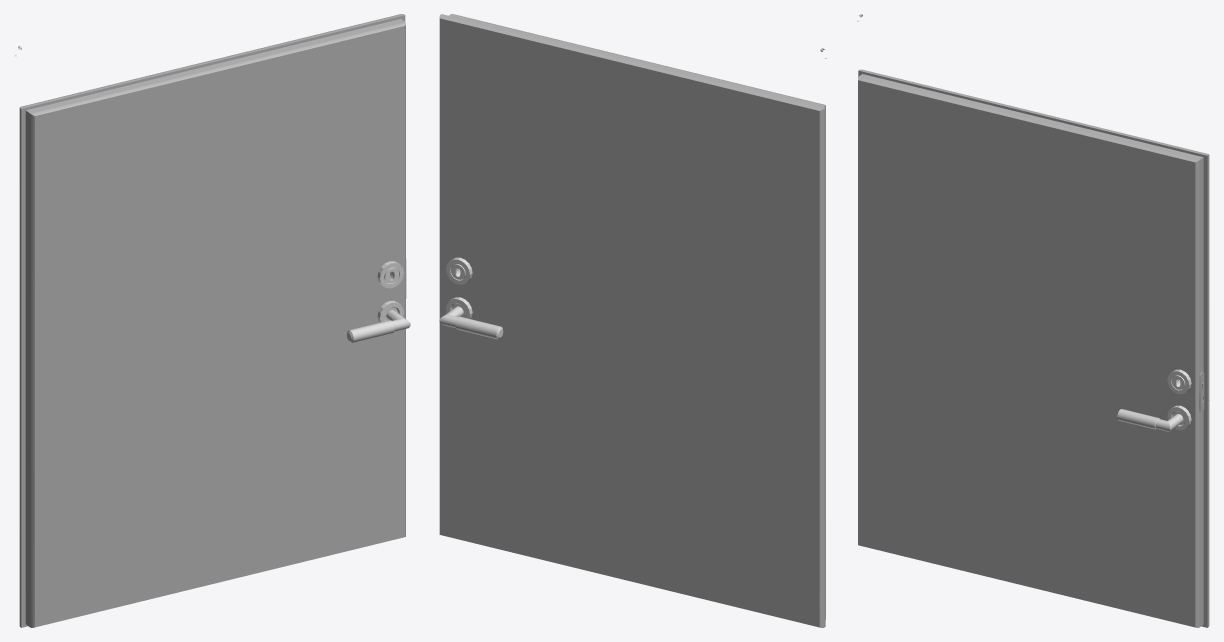
Rendered from door-part-2.glb.
The picture shows the model from 3 angles, left to right: view 1: azimuth 30°, elevation 25°; view 2: azimuth 150°, elevation 25°; view 3: azimuth 330°, elevation 25°; orthographic projection. The views are drawn at different scales.
Parts seen in each view (by area): view 1: Plane001, Circle002; view 2: Plane001, Circle002; view 3: Plane001, Circle002.
Part boxes in pixels (x1,y1,x2,y2): Plane001: [14, 14, 406, 627]; Circle002: [346, 310, 410, 343]; Plane001: [439, 14, 827, 627]; Circle002: [439, 306, 503, 339]; Plane001: [857, 14, 1209, 627]; Circle002: [1117, 400, 1209, 431].
Bounding box in the file's own units: 1.72 × 2.45 × 0.34.
Materials: 3 (3 with a texture image).
